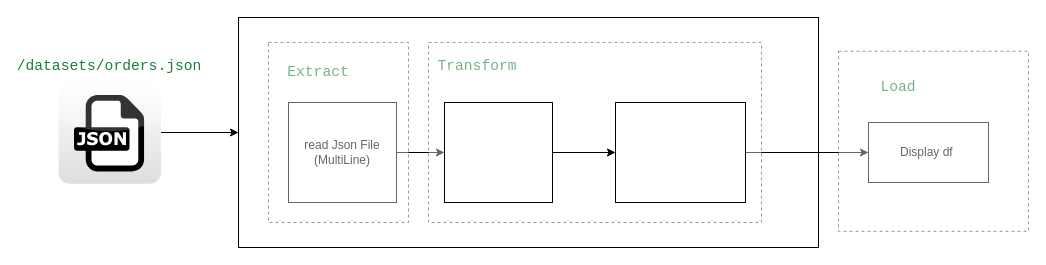
Some shapes in this 1046 by 265 pixel diagram are drawn without their labels. The shapes that lost their labels are listed below. From the top down, each one's centre as x and y in pixels, then its label:
At (x=498, y=152): "Use the explode function to flatten the array of products".
At (x=680, y=152): "Select required fields: customer_id , order_id , product_name , product_price".
